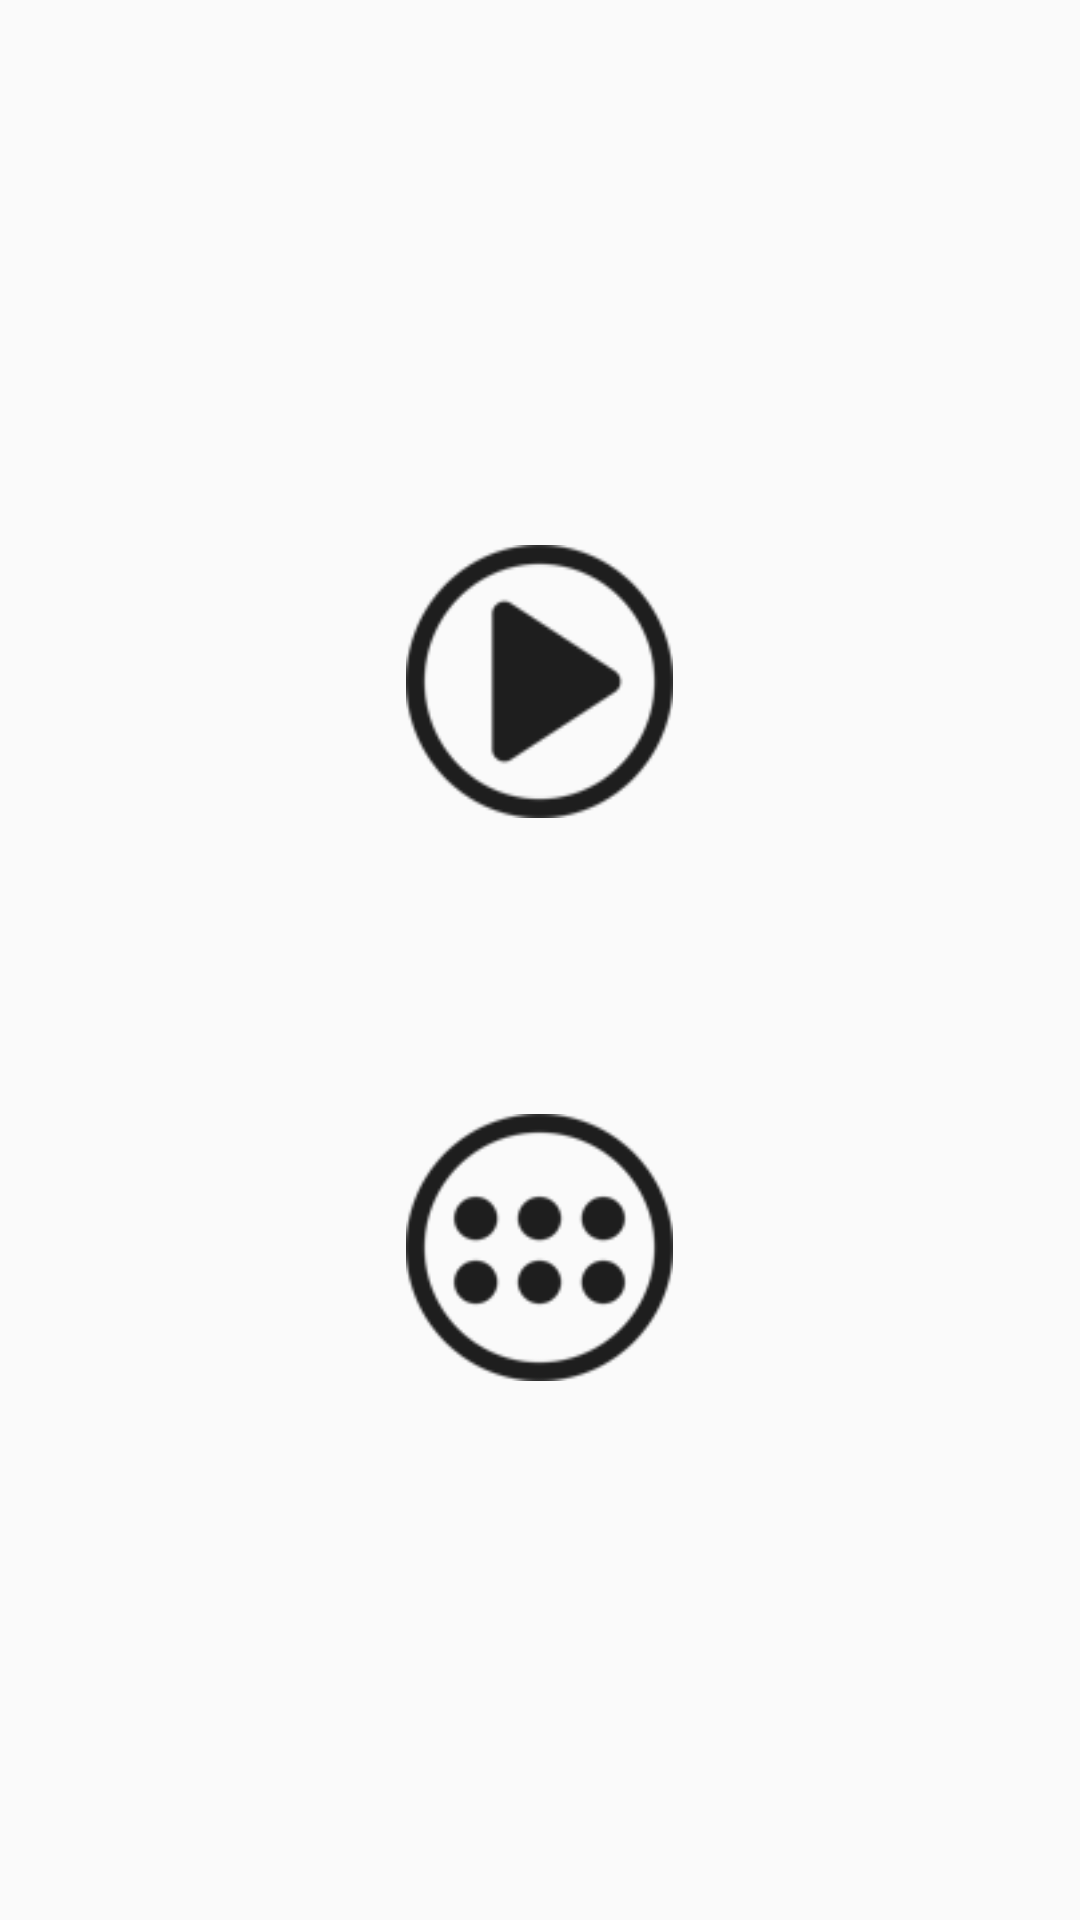

Named icons in this screenshot (1080px x 1920px) and their centers, [x,y]:
Play: [539,681]
